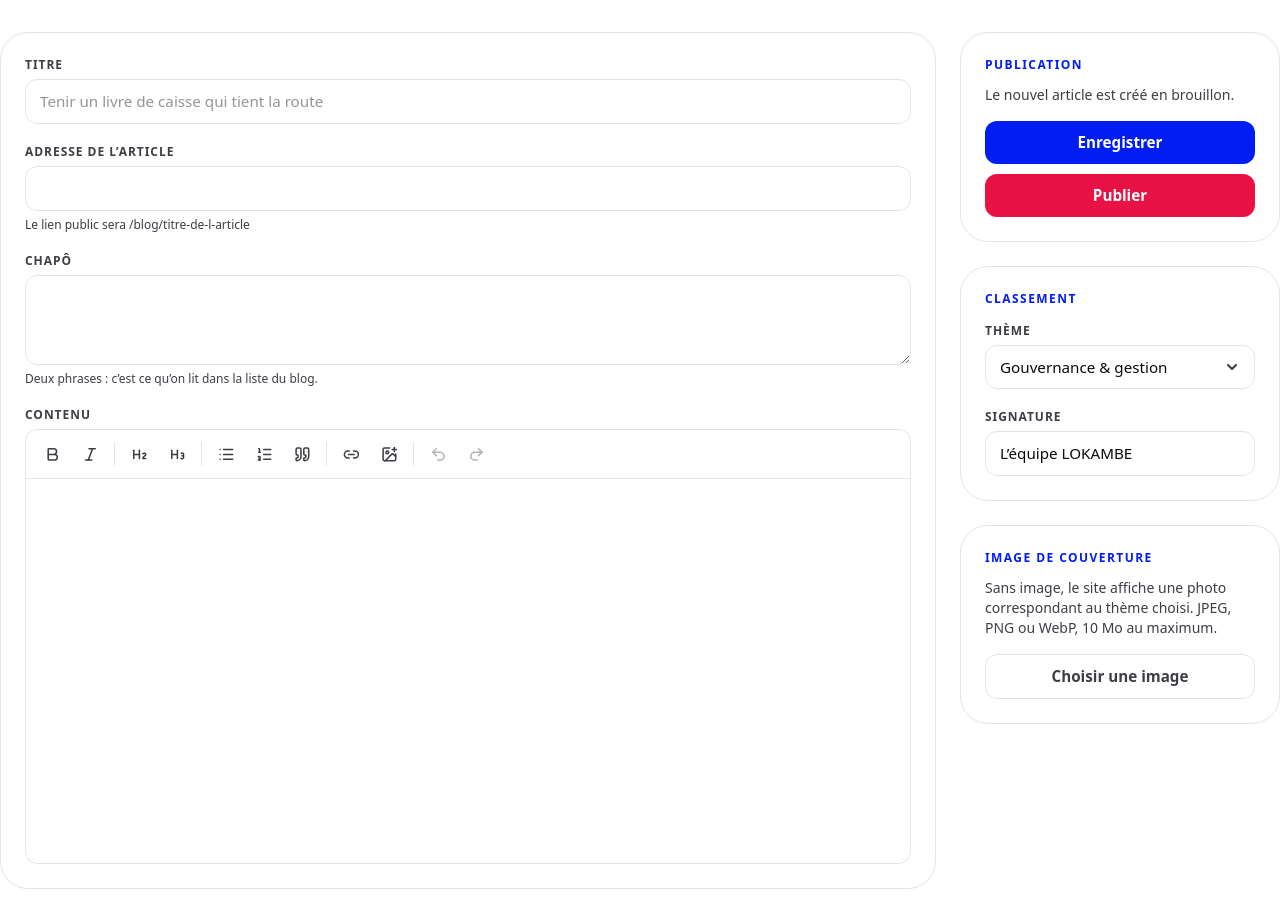
it: ArticleForm › déduit l’adresse publique du titre tant qu’on ne la touche pas
Type "Fixer ses prix au restaurant" into the field labelled "Titre".
click(468, 101); type("Fixer ses prix au restaurant")  # box [25,79,911,124]
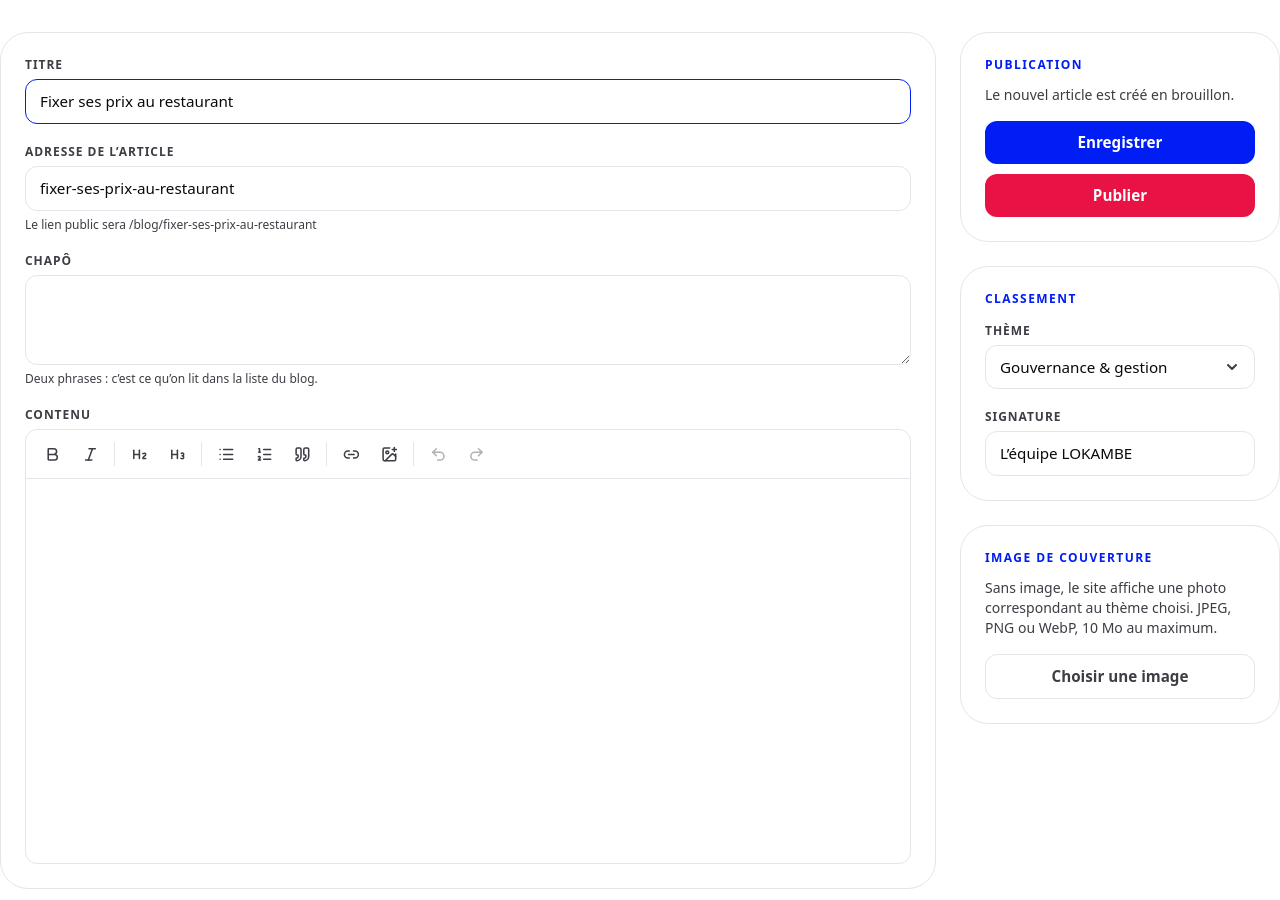
Expected: the field labelled "Adresse de l’article" holds "fixer-ses-prix-au-restaurant", [25,166,911,211]
